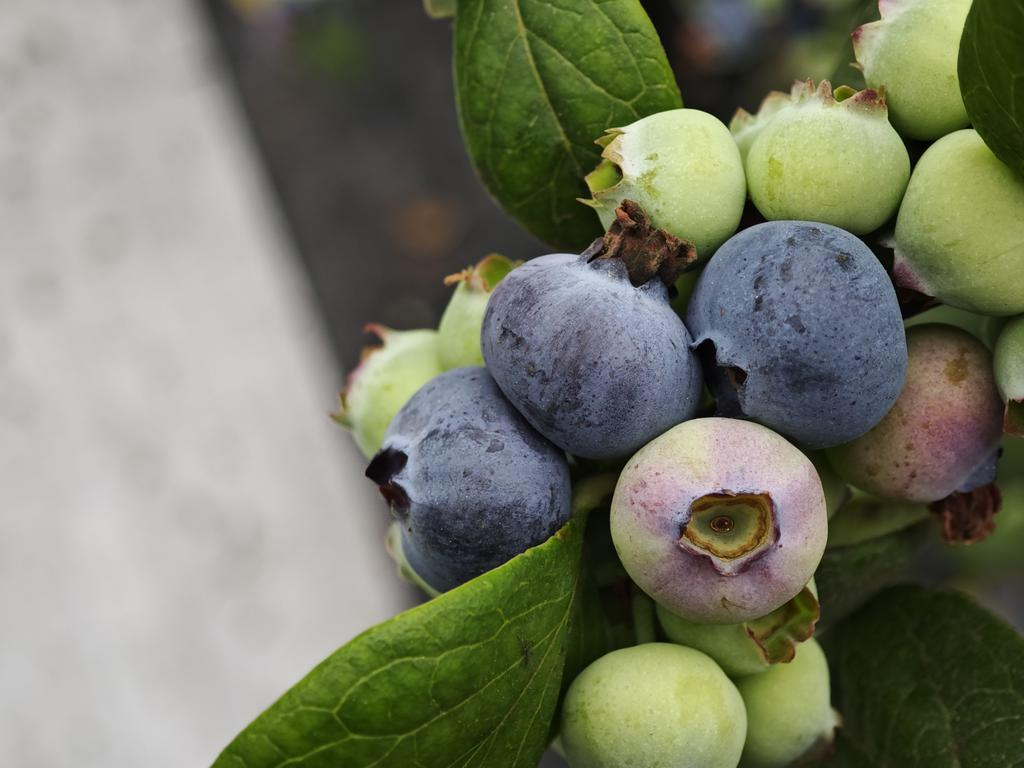RipeBlueBerry: (688, 218, 911, 447), (478, 239, 699, 457), (380, 365, 580, 575)
Semi-RipeBlueBerry: (607, 413, 834, 626)
